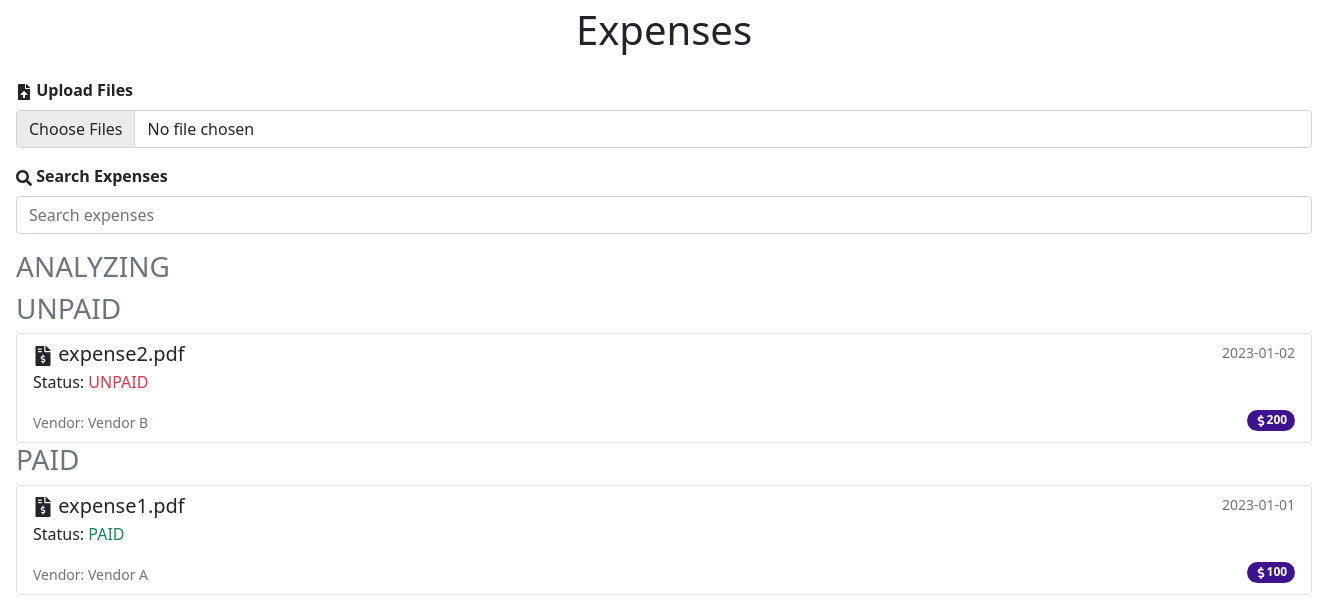
filters expenses based on search term
The image size is (1329, 612).
Expected: the heading "expense1.pdf" is shown, [33, 494, 185, 518]
Expected: the heading "expense2.pdf" is shown, [33, 342, 185, 366]
Type "expense1" into the field with placeholder "Search expenses" at (664,215), box [16, 196, 1312, 234]
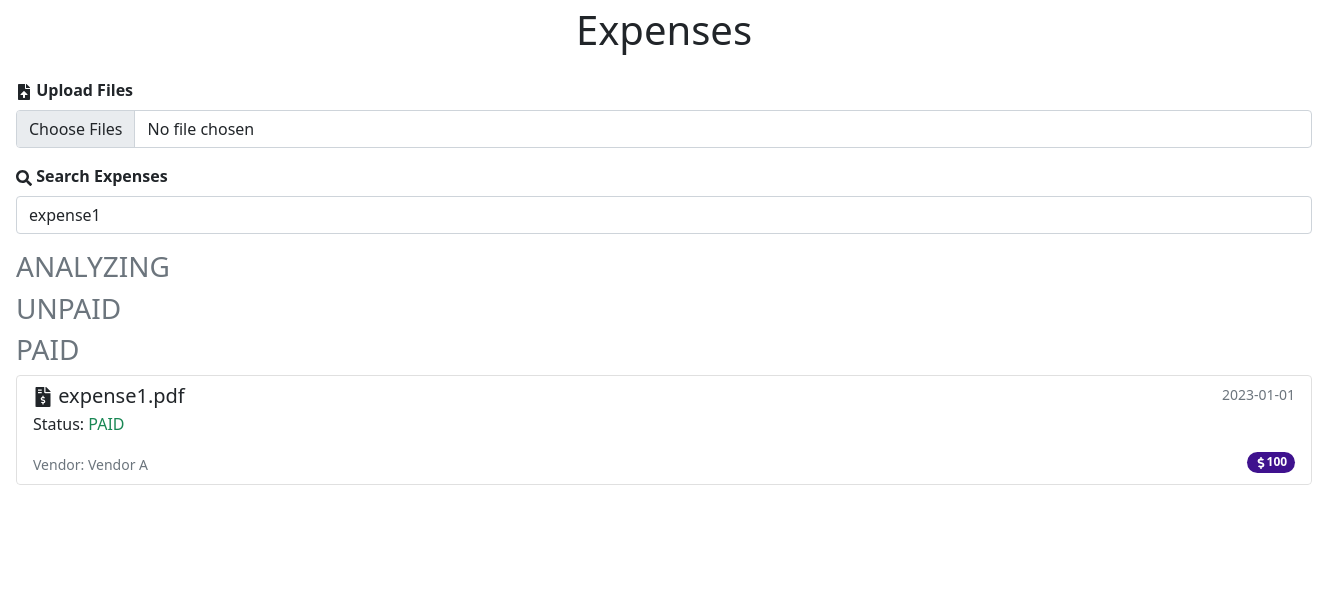
Expected: the heading "expense1.pdf" is shown, [33, 384, 185, 408]
Result: the link "expense2.pdf" is gone
